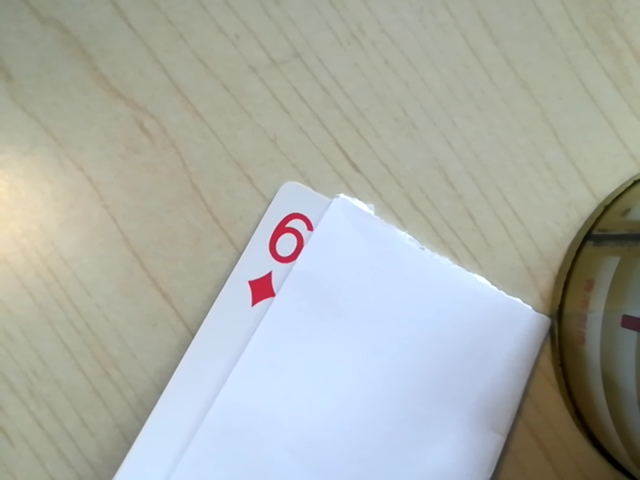fk 6: (240, 205, 320, 310)
